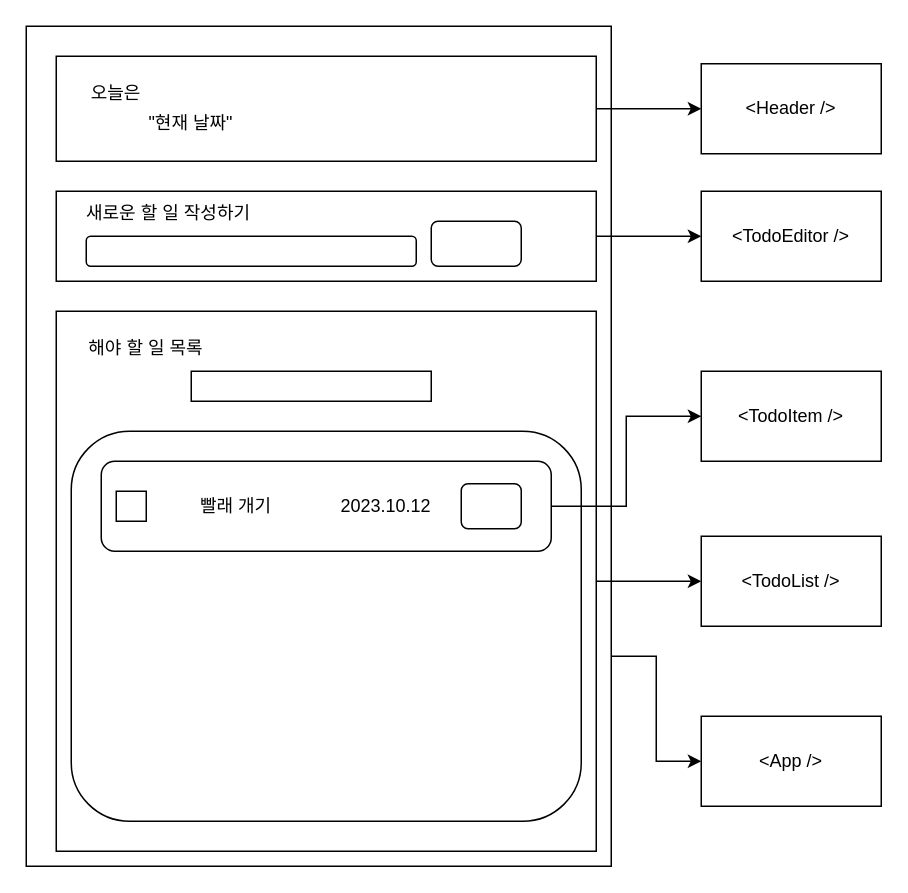
Some shapes in this 908 by 893 pixel diagram are drawn without their labels. The shapes that lost their labels are listed below. From the top down, each one's centre as x and y in pixels, then its label:
point 475,243: 추가
point 310,385: 검색
point 490,505: 삭제
